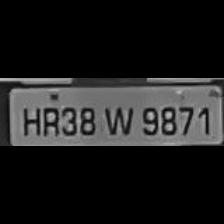1: (195, 103, 213, 135)
3: (59, 102, 77, 136)
7: (177, 102, 195, 136)
8: (76, 102, 98, 136), (158, 102, 176, 136)
9: (137, 102, 159, 136)
H: (18, 104, 41, 136)
R: (40, 102, 58, 136)
W: (104, 101, 132, 137)
